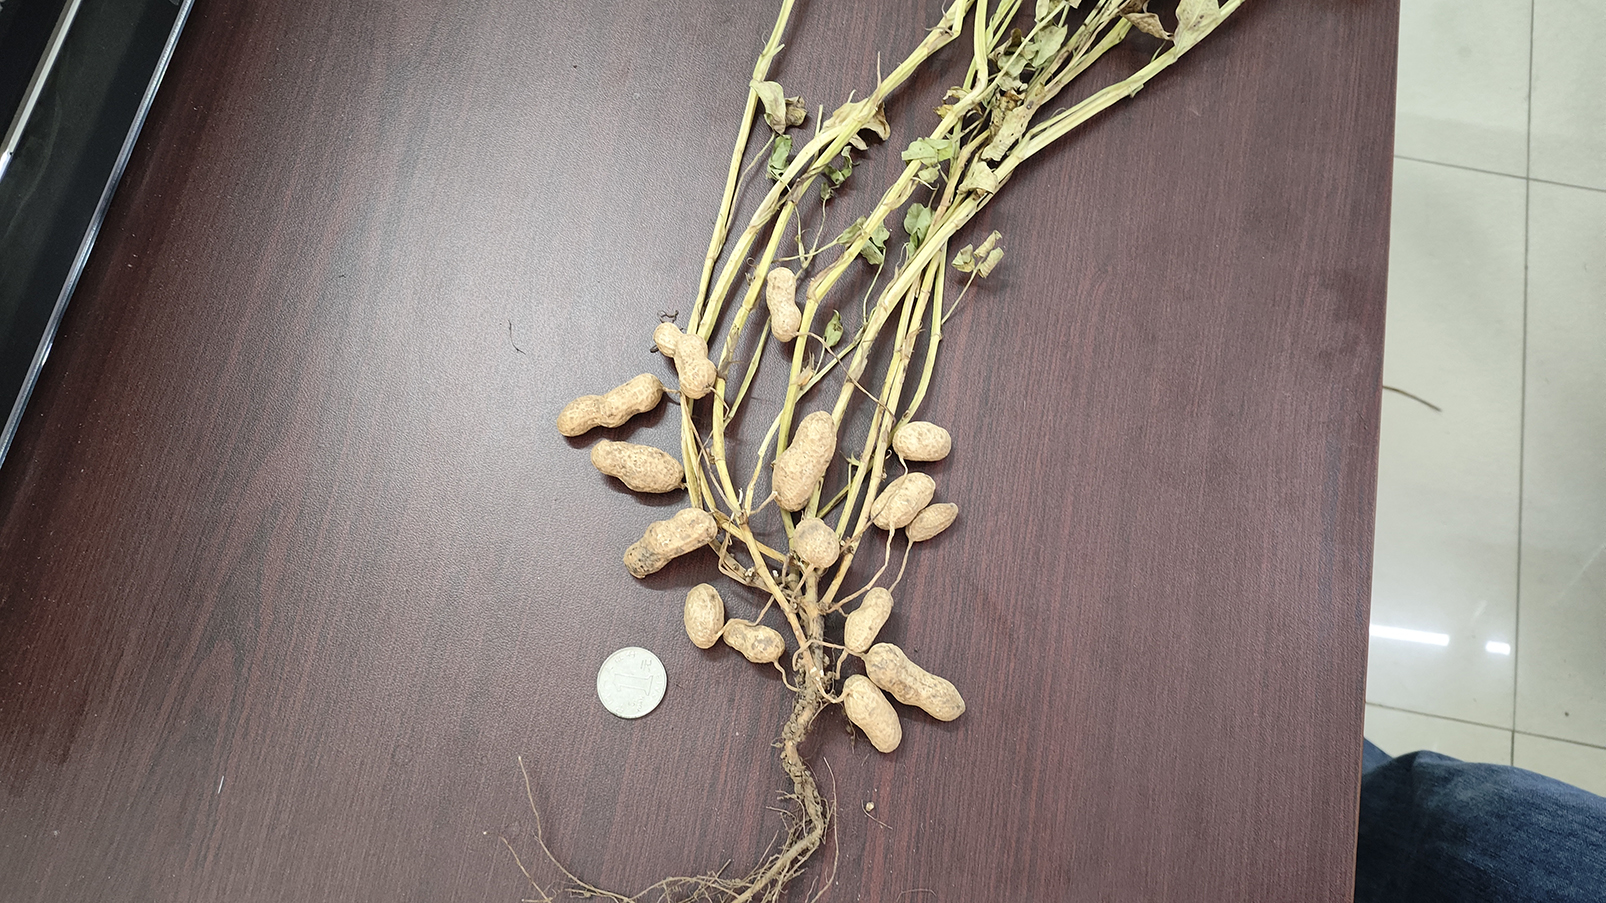h: (866, 644, 968, 720), (557, 370, 664, 438), (624, 507, 715, 582), (773, 407, 837, 508), (592, 437, 683, 495), (654, 322, 717, 398), (844, 671, 900, 753), (871, 472, 938, 531), (845, 585, 895, 656), (765, 264, 803, 342), (683, 579, 726, 645), (891, 419, 952, 463), (722, 620, 784, 663), (790, 518, 844, 567), (906, 503, 962, 545)
